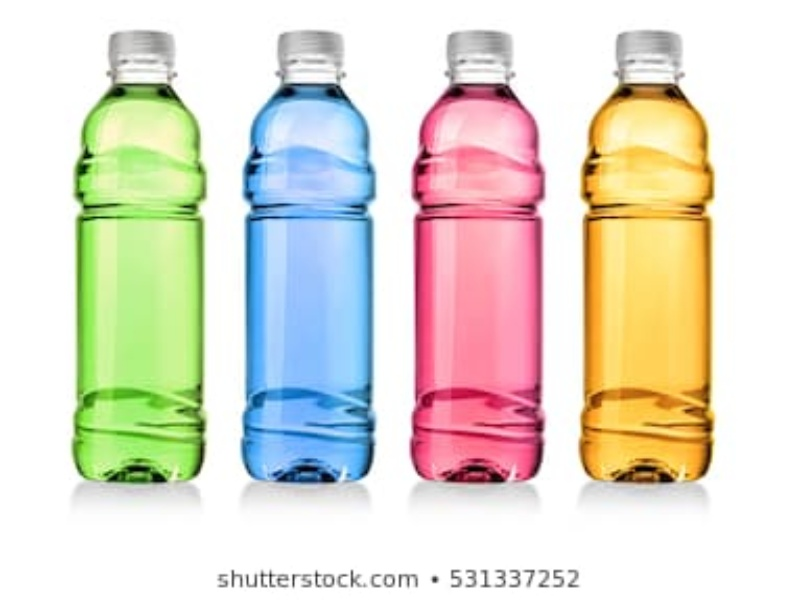bottle-cap: (101, 30, 181, 70), (440, 28, 520, 68), (272, 26, 352, 66), (611, 29, 691, 69)
plastic-bottle: (71, 27, 212, 487), (577, 27, 718, 487), (408, 25, 549, 485), (238, 28, 379, 488)
